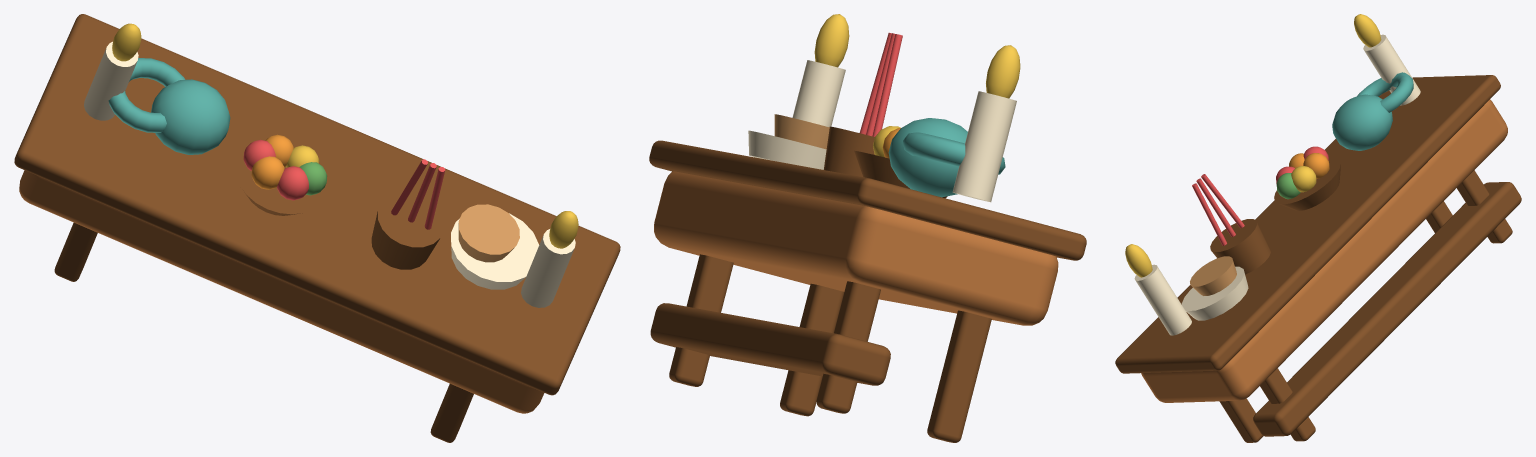
Rendered from altar.glb.
3 views of the same model, side by side, from view 1: azimuth 30°, elevation 25°; view 2: azimuth 150°, elevation 25°; view 3: azimuth 270°, elevation 25° (orthographic). The views are drawn at different scales.
Bounding box in the file's own units: 1.66 × 1.39 × 1.53.
